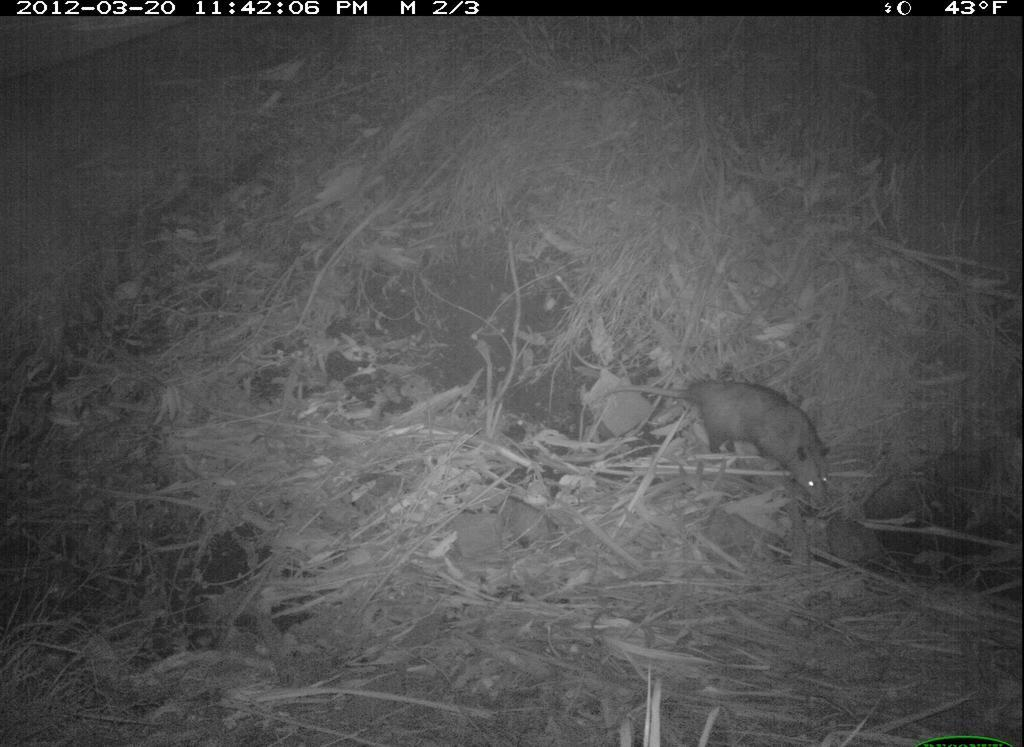opossum: (598, 367, 841, 515)
